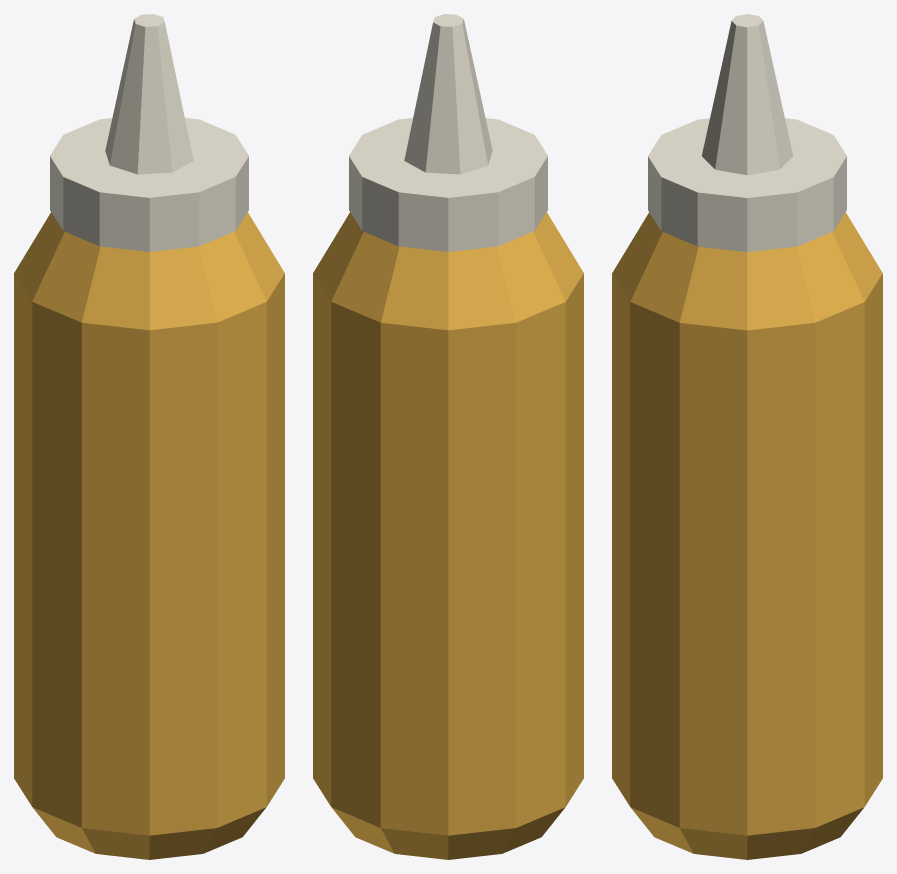
Rendered from Sauce_Mustard.glb.
3 views of the same model, side by side, from view 1: azimuth 30°, elevation 25°; view 2: azimuth 150°, elevation 25°; view 3: azimuth 270°, elevation 25° (orthographic).
Visible parts, largest first — view 1: Sauce_Mustard; view 2: Sauce_Mustard; view 3: Sauce_Mustard.
Part boxes in pixels (box(x1,y1,x2,y2)): Sauce_Mustard: box(14, 14, 284, 859); Sauce_Mustard: box(313, 14, 583, 859); Sauce_Mustard: box(612, 14, 882, 859).
Bounding box in the file's own units: 0.068 × 0.22 × 0.068.
